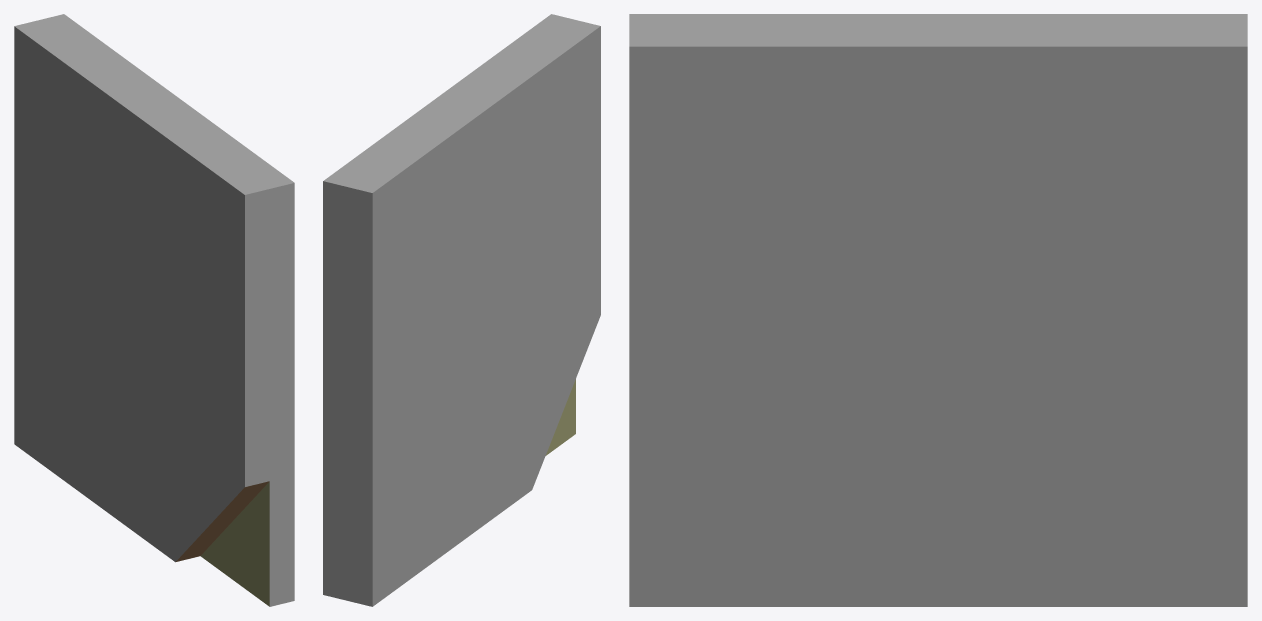
File: CM_SmallCorner_Wall8x8.fbx
3 views of the same model, side by side, from view 1: azimuth 30°, elevation 25°; view 2: azimuth 150°, elevation 25°; view 3: azimuth 270°, elevation 25° (orthographic). The views are drawn at different scales.
Visible parts, largest first — view 1: CM_SmallCorner_Wall8x8; view 2: CM_SmallCorner_Wall8x8; view 3: CM_SmallCorner_Wall8x8.
Part boxes in pixels (x1=…): CM_SmallCorner_Wall8x8: x1=14, y1=14, x2=294, y2=606; CM_SmallCorner_Wall8x8: x1=323, y1=14, x2=600, y2=606; CM_SmallCorner_Wall8x8: x1=629, y1=14, x2=1247, y2=606.
Bounding box in the file's own units: 100 × 800 × 800.
